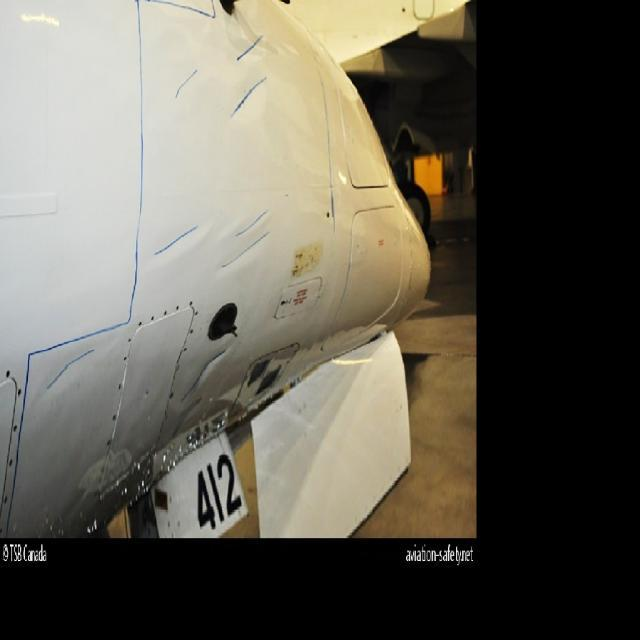dent: (227, 80, 290, 141)
